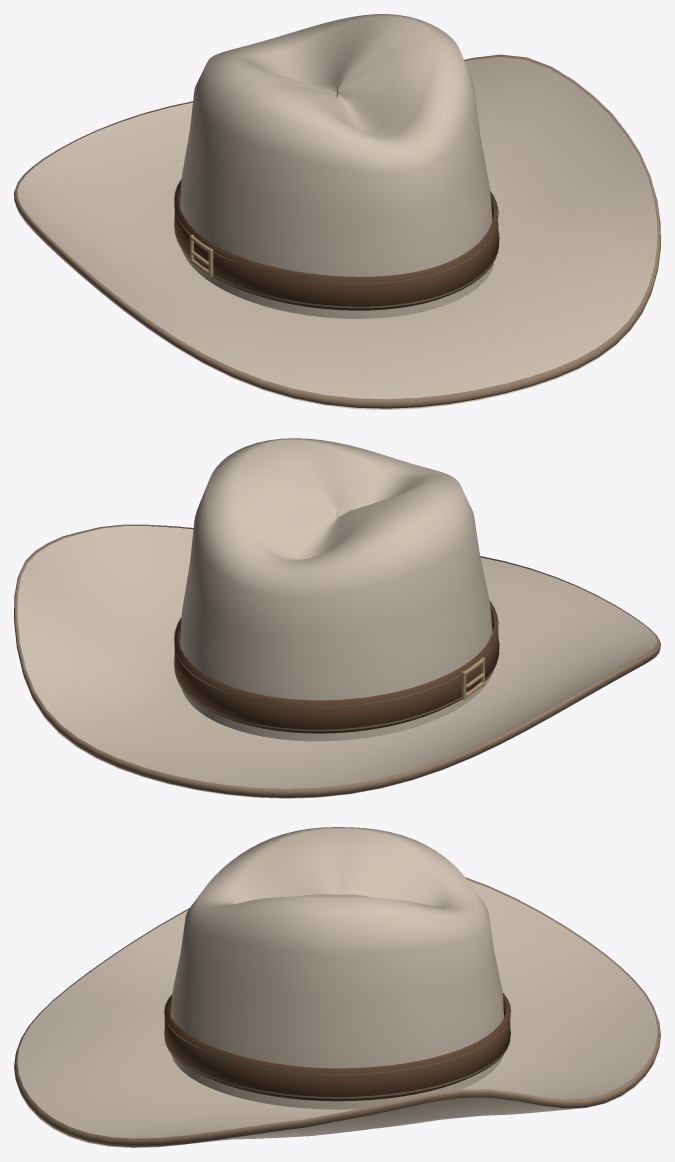
The model's file is battered-brim.glb.
The picture shows the model from 3 angles, top to bottom: view 1: azimuth 30°, elevation 25°; view 2: azimuth 150°, elevation 25°; view 3: azimuth 270°, elevation 25°; orthographic projection. The views are drawn at different scales.
Visible parts, largest first — view 1: Brim upper felt, Pinched crown, Worn leather hatband, Brim bound edge, Brim lower felt, Band stitch line.001, Band stitch line; view 2: Pinched crown, Brim upper felt, Worn leather hatband, Brim bound edge, Brim lower felt, Band stitch line.001, Band stitch line; view 3: Pinched crown, Brim upper felt, Worn leather hatband, Brim bound edge, Brim lower felt, Band stitch line.001, Band stitch line.
Boxes of the visible parts, x1,y1,x2,y2 form: Brim upper felt: [17, 57, 657, 399]; Pinched crown: [180, 14, 493, 318]; Worn leather hatband: [174, 179, 498, 310]; Brim bound edge: [14, 54, 660, 408]; Brim lower felt: [15, 205, 651, 409]; Band stitch line.001: [173, 178, 498, 284]; Band stitch line: [173, 217, 499, 308]; Pinched crown: [180, 438, 492, 741]; Brim upper felt: [17, 526, 657, 788]; Worn leather hatband: [174, 602, 498, 733]; Brim bound edge: [14, 524, 660, 797]; Brim lower felt: [23, 652, 659, 798]; Band stitch line.001: [173, 600, 498, 707]; Band stitch line: [173, 640, 499, 731]; Pinched crown: [171, 827, 503, 1109]; Brim upper felt: [17, 880, 657, 1138]; Worn leather hatband: [164, 993, 510, 1101]; Brim bound edge: [14, 877, 660, 1147]; Brim lower felt: [16, 1051, 658, 1147]; Band stitch line.001: [164, 993, 510, 1075]; Band stitch line: [164, 1029, 510, 1098].
Bounding box in the file's own units: 0.3535 × 0.1355 × 0.3754.
